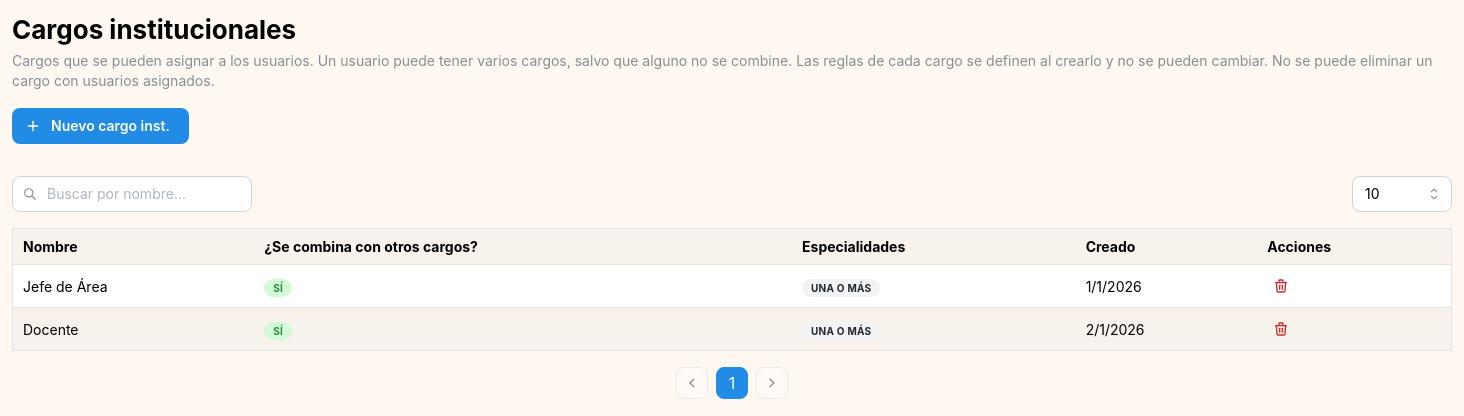
Test case: RolesPage › debería filtrar ignorando tildes y mayúsculas, en ambos sentidos
Expected: the text "Jefe de Área" is shown, [12,265,254,308]
Note: Sin tilde encuentra el nombre que la tiene
Type "area" into the field with placeholder "Buscar por nombre...".
click(132, 194); type("area")  # box [12,176,252,212]
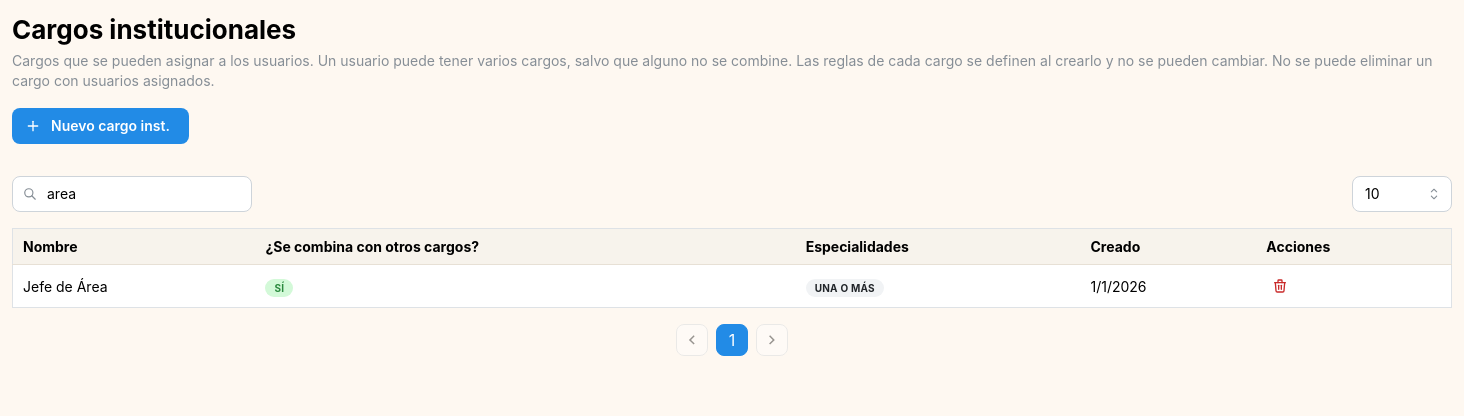
Expected: the text "Jefe de Área" is shown, [12,265,255,308]
Now the text "Docente" is gone
Note: Con tilde encuentra el nombre que no la tiene
Replace the text in the field with placeholder "Buscar por nombre..." with "DÓCENTE" at (132, 194), box [12,176,252,212]
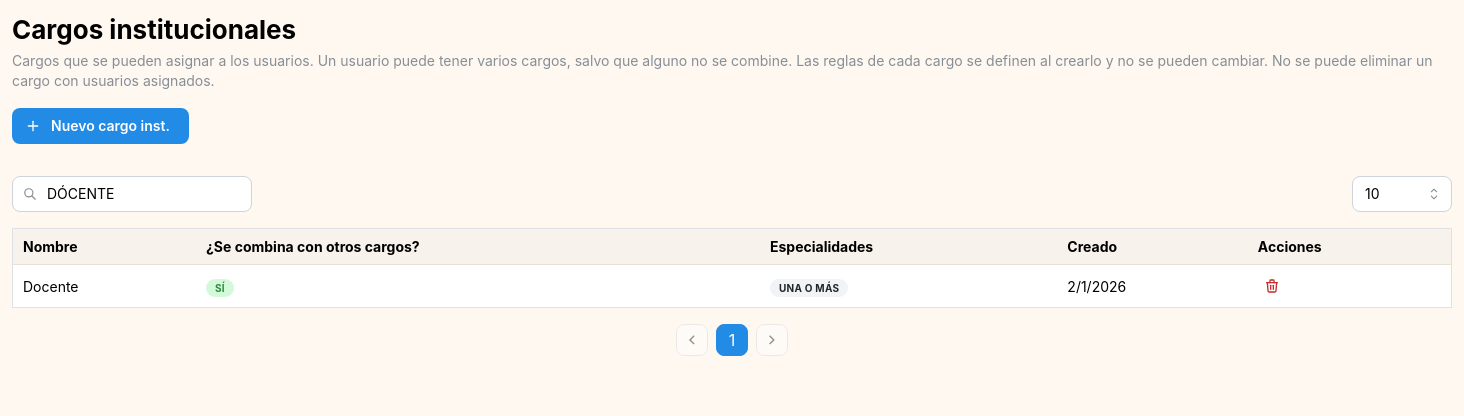
Now the text "Docente" is shown, box [12,265,196,308]
Now the text "Jefe de Área" is gone
